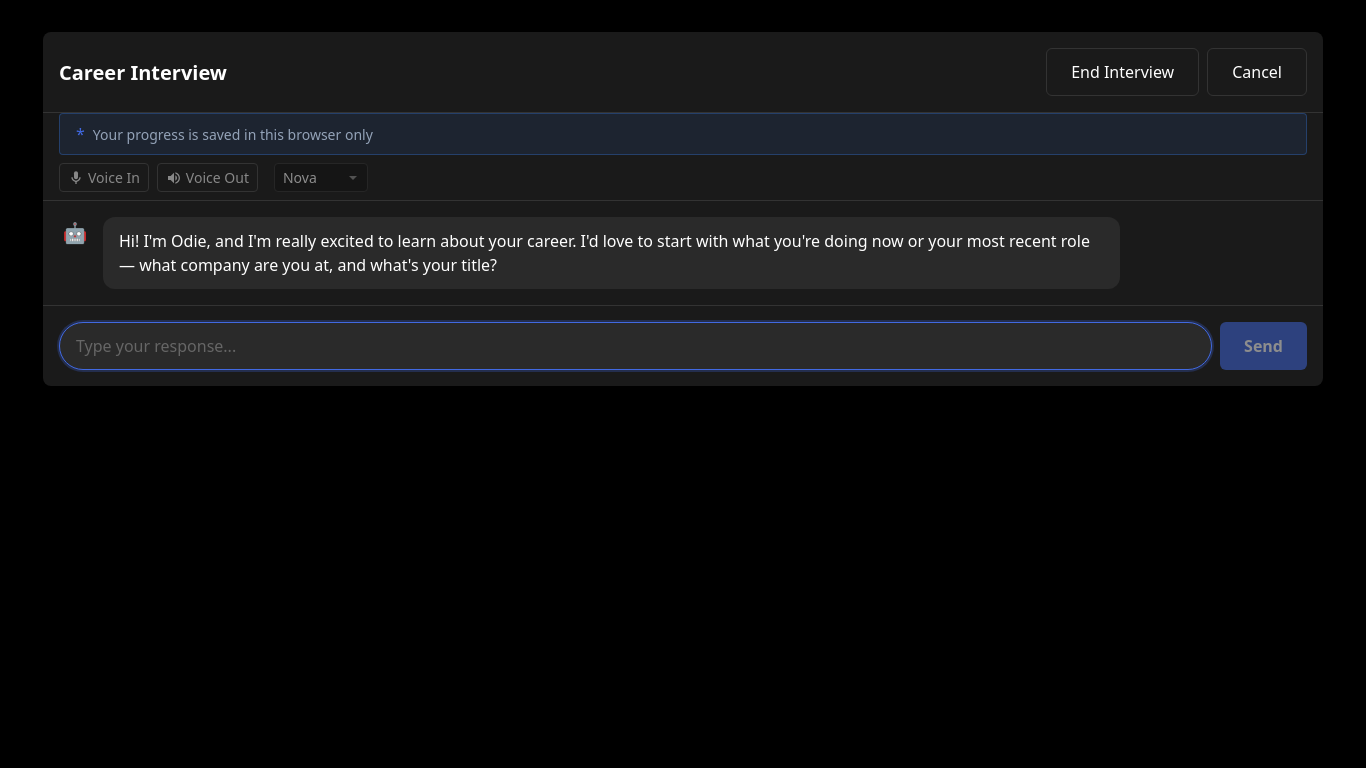
it: InterviewChat › should show extracted data preview after position is captured
// Send first message to trigger position extraction
Type "Acme Corp, Software Engineer" into the field with test id "interview-input". click: (636, 346)
box: [59,322,1212,370]
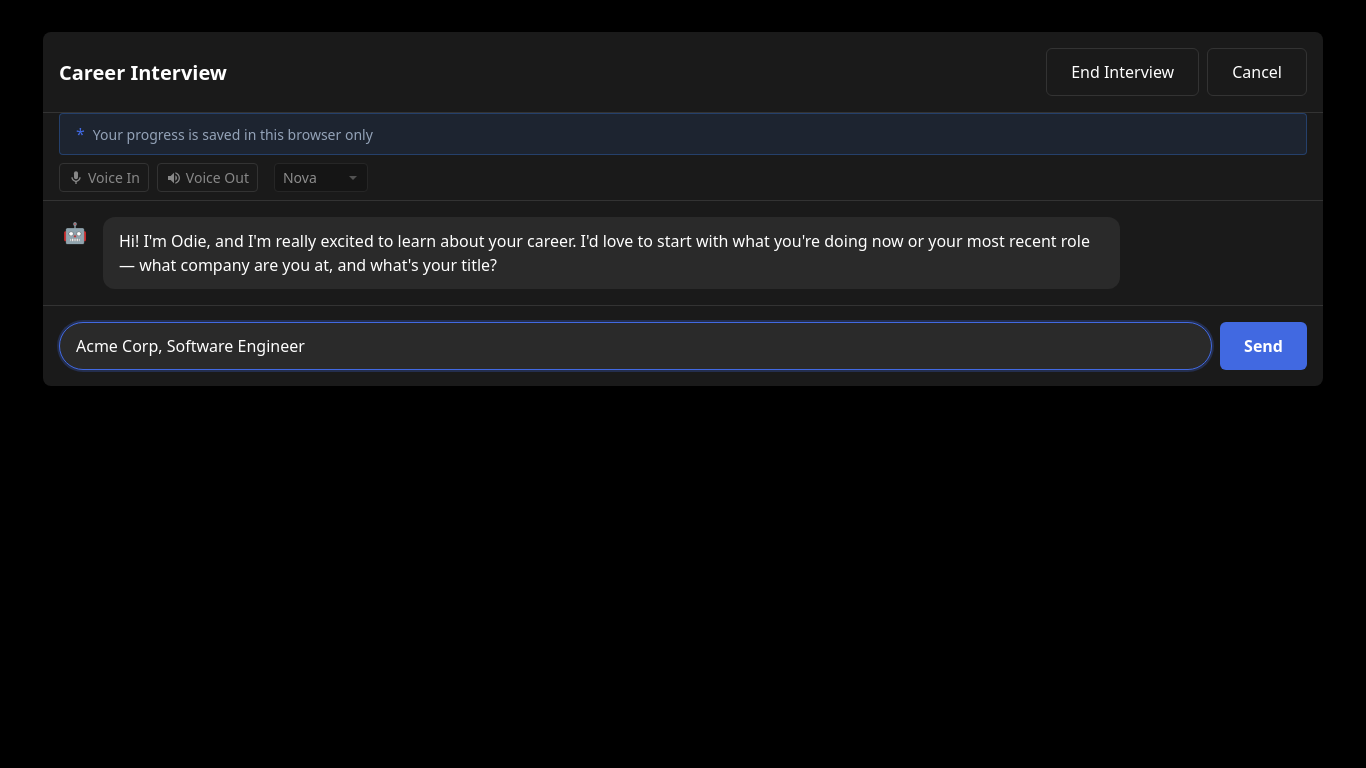
Click the button with test id "interview-send". click: (1264, 346)
box: [1220,322,1307,370]
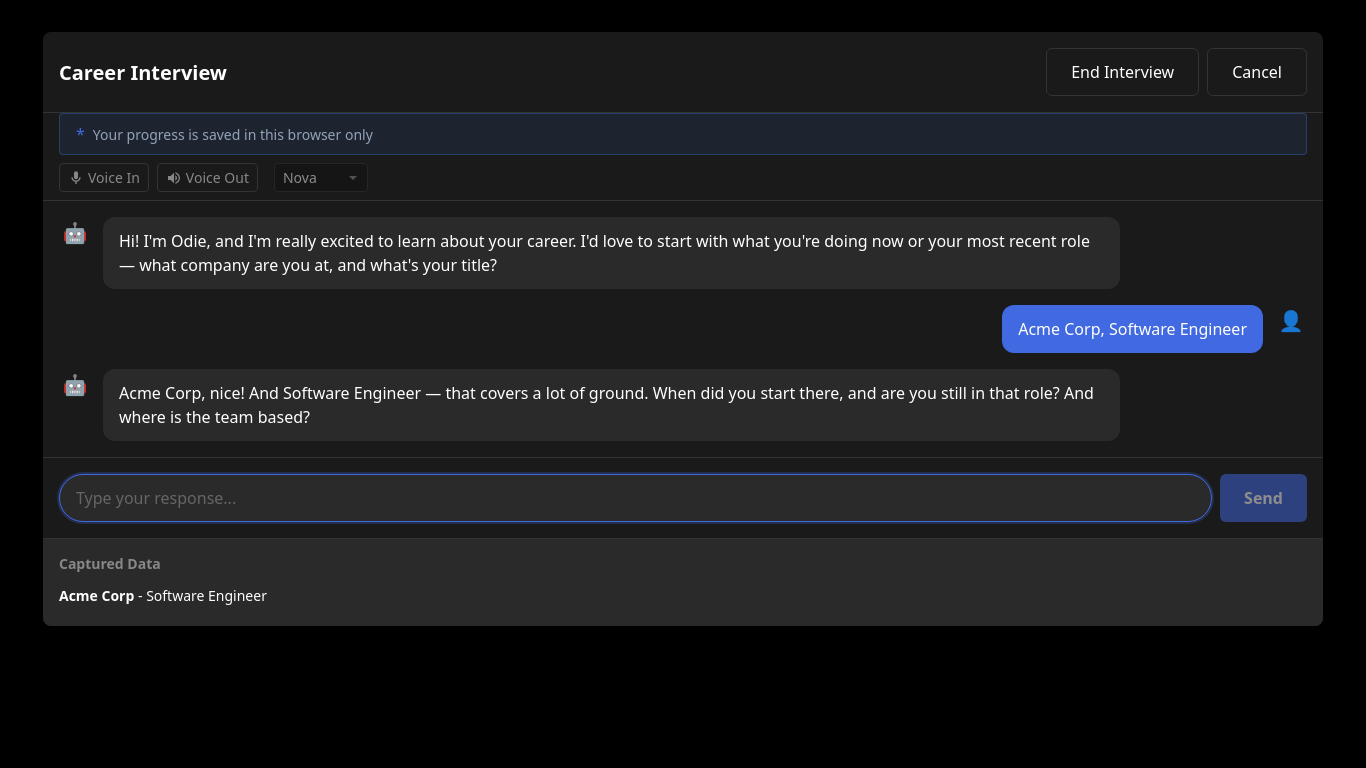
Now the element with test id "interview-preview" is shown, box [43,538,1323,626]
